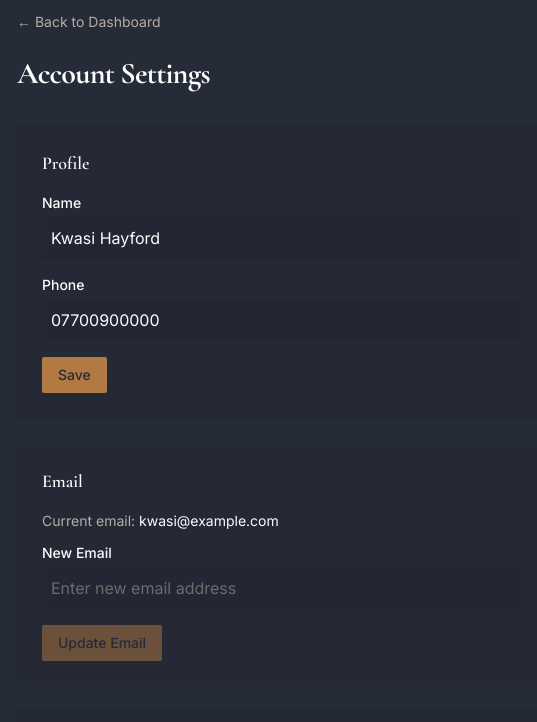
Test case: SettingsPage › prompts users to fix invalid existing phone numbers on profile save
Replace the text in the field labelled "Phone" with "07700 90000" at coordinates (281, 320), box [42, 299, 520, 341]
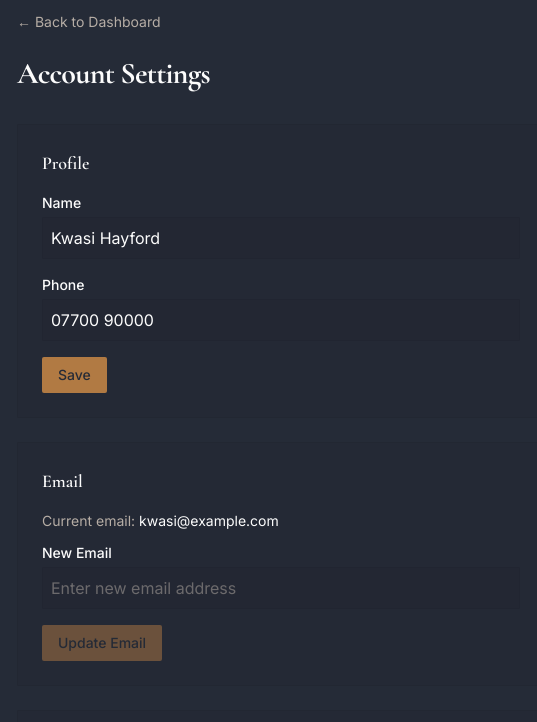
Click the button "Save".
click(74, 375)  # box [42, 357, 107, 393]
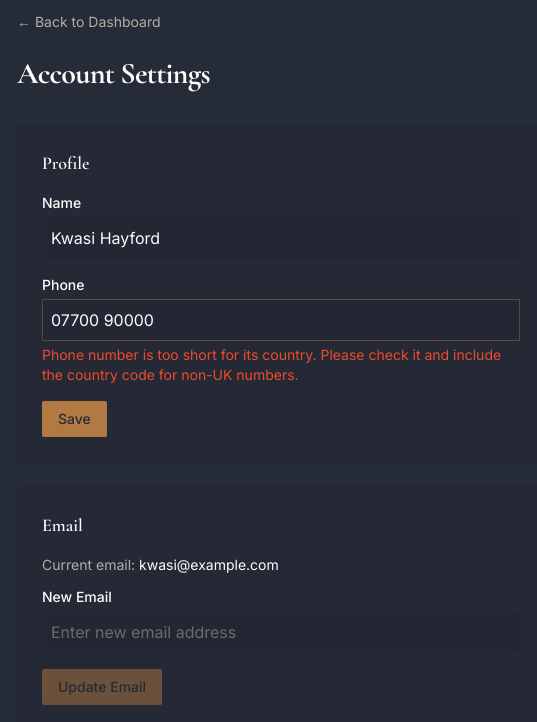
Expected: the text "Phone number is too short for its country" is shown, [42, 346, 501, 383]
